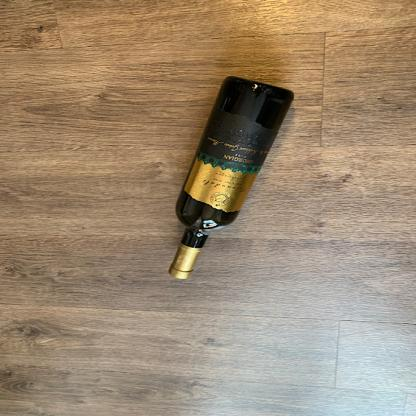trash: (165, 76, 297, 286)
